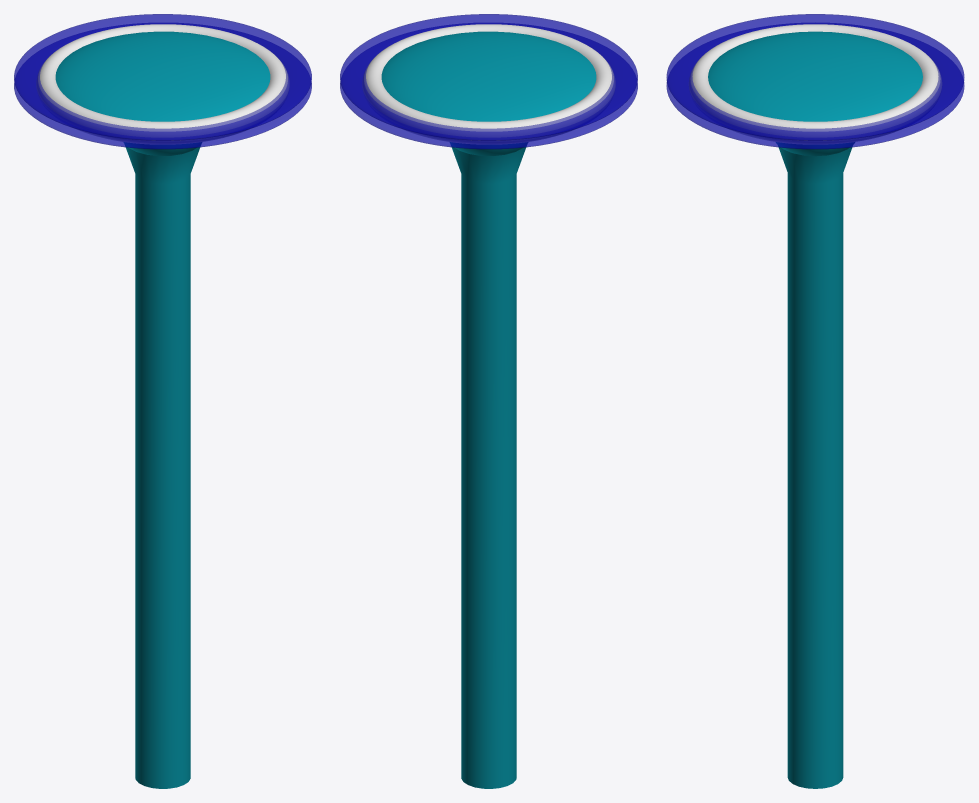
Rendered from Portal.fbx.
The picture shows the model from 3 angles, left to right: view 1: azimuth 30°, elevation 25°; view 2: azimuth 150°, elevation 25°; view 3: azimuth 270°, elevation 25°; orthographic projection.
Parts seen in each view (by area): view 1: pCylinder16, pSphere22, pTorus2, pTorus1, pTorus3, pSphere23; view 2: pCylinder16, pSphere22, pTorus2, pTorus1, pTorus3, pSphere23; view 3: pCylinder16, pSphere22, pTorus2, pTorus1, pTorus3, pSphere23.
Part boxes in pixels (x1=…): pCylinder16: x1=125, y1=145, x2=200, y2=788; pSphere22: x1=55, y1=31, x2=270, y2=121; pTorus2: x1=14, y1=14, x2=311, y2=140; pTorus1: x1=36, y1=24, x2=289, y2=144; pTorus3: x1=14, y1=23, x2=311, y2=149; pSphere23: x1=124, y1=142, x2=201, y2=155; pCylinder16: x1=451, y1=145, x2=526, y2=788; pSphere22: x1=381, y1=31, x2=596, y2=121; pTorus2: x1=340, y1=14, x2=637, y2=140; pTorus1: x1=362, y1=24, x2=615, y2=144; pTorus3: x1=340, y1=23, x2=637, y2=149; pSphere23: x1=450, y1=142, x2=527, y2=155; pCylinder16: x1=778, y1=145, x2=852, y2=788; pSphere22: x1=708, y1=31, x2=922, y2=121; pTorus2: x1=666, y1=14, x2=964, y2=140; pTorus1: x1=689, y1=24, x2=941, y2=144; pTorus3: x1=666, y1=23, x2=964, y2=149; pSphere23: x1=776, y1=142, x2=854, y2=156.
Bounding box in the file's own units: 2.54 × 6.71 × 2.54.
